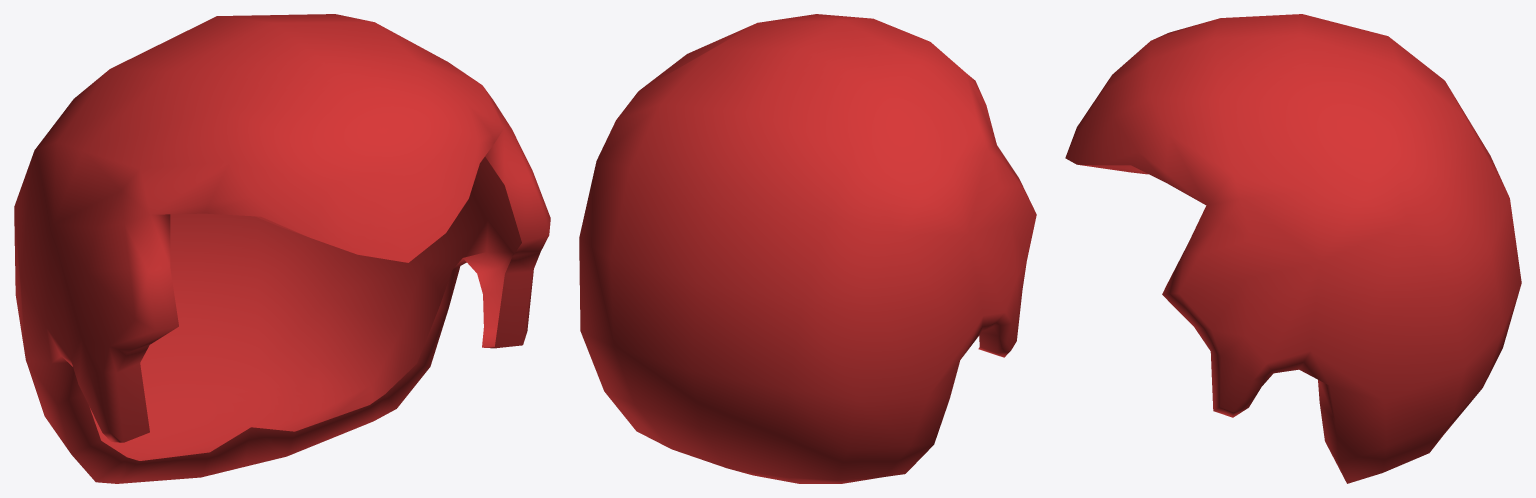
Rendered from Hair_Red_2.fbx.
The picture shows the model from 3 angles, left to right: view 1: azimuth 30°, elevation 25°; view 2: azimuth 150°, elevation 25°; view 3: azimuth 270°, elevation 25°; orthographic projection. The views are drawn at different scales.
Visible parts, largest first — view 1: Hair_Red_2; view 2: Hair_Red_2; view 3: Hair_Red_2.
Boxes of the visible parts, box(x1,y1,x2,y2) form: Hair_Red_2: box(14, 14, 550, 483); Hair_Red_2: box(579, 14, 1036, 483); Hair_Red_2: box(1065, 14, 1521, 483).
Size of the model in its own units: 52.84 by 52.69 by 53.88.
